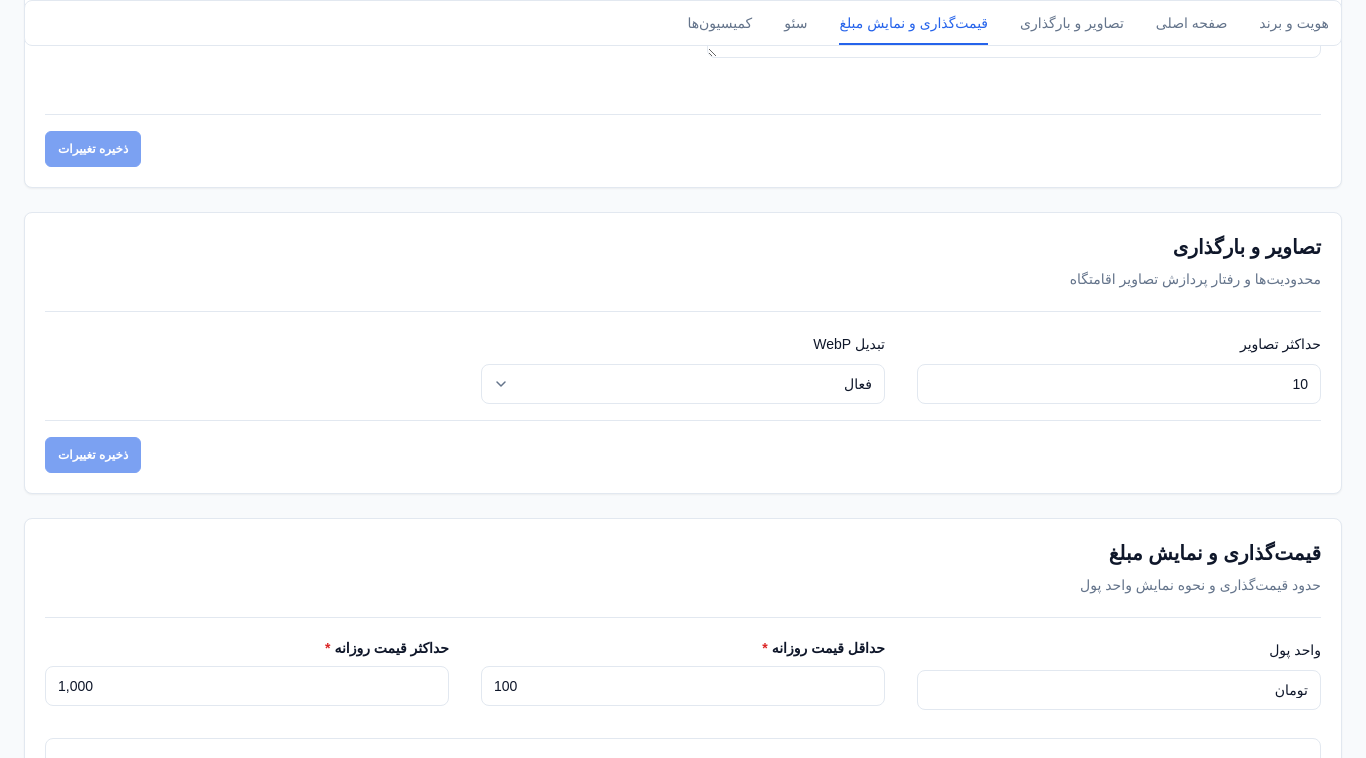
Admin Site Settings generic dirty state › tracks Boolean and fallback settings independently
(page scrolled)
Check: the element named "تبدیل WebP" is shown, box top-left (24, 212), bottom-right (1342, 494)
Check: the 2nd button "ذخیره تغییرات" is disabled, box top-left (45, 437), bottom-right (141, 473)
Step 1. Select "غیرفعال" in the dropdown labelled "تبدیل WebP" → (683, 384), box top-left (481, 364), bottom-right (885, 404)
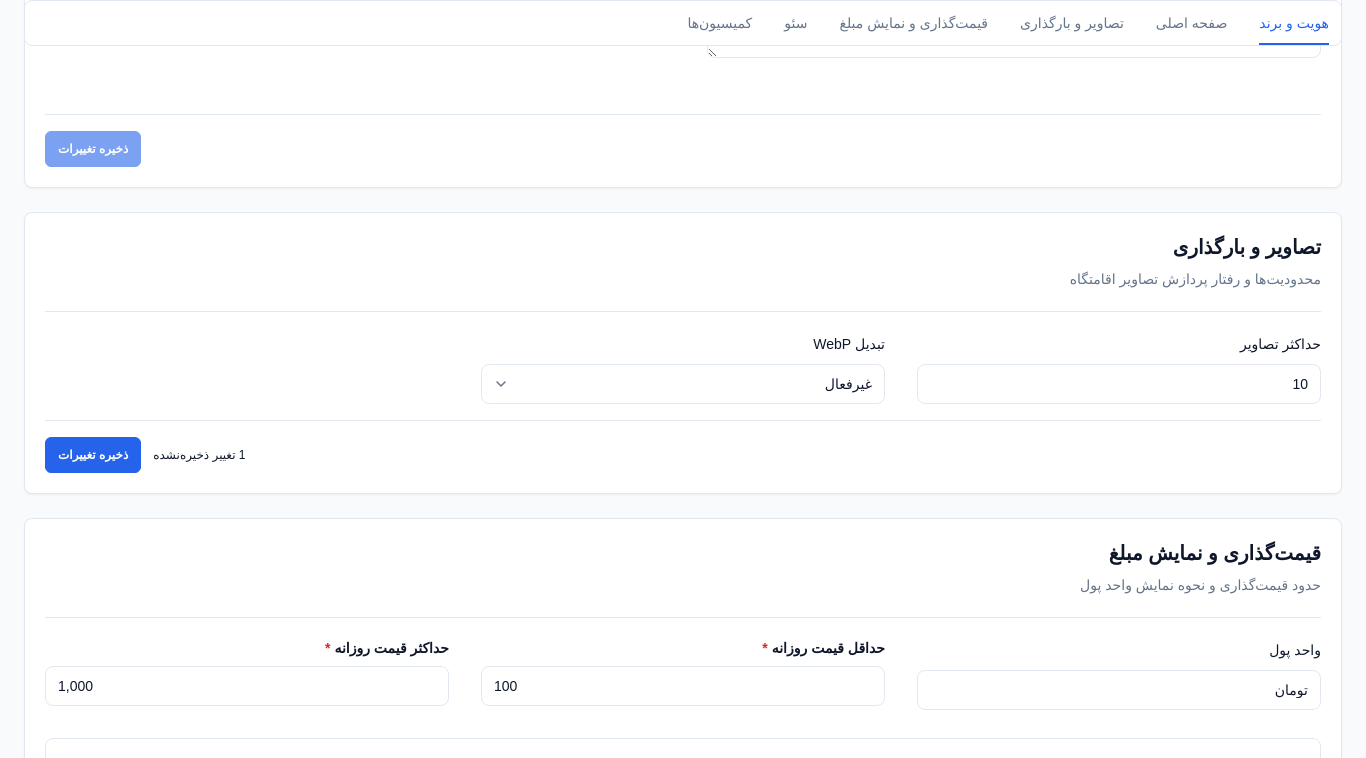
Check: the button "ذخیره تغییرات" next to "1 تغییر ذخیره‌نشده" is enabled
Step 2. Click the button "ذخیره تغییرات" next to "1 تغییر ذخیره‌نشده" → (93, 455), box top-left (45, 437), bottom-right (141, 473)
(page scrolled)
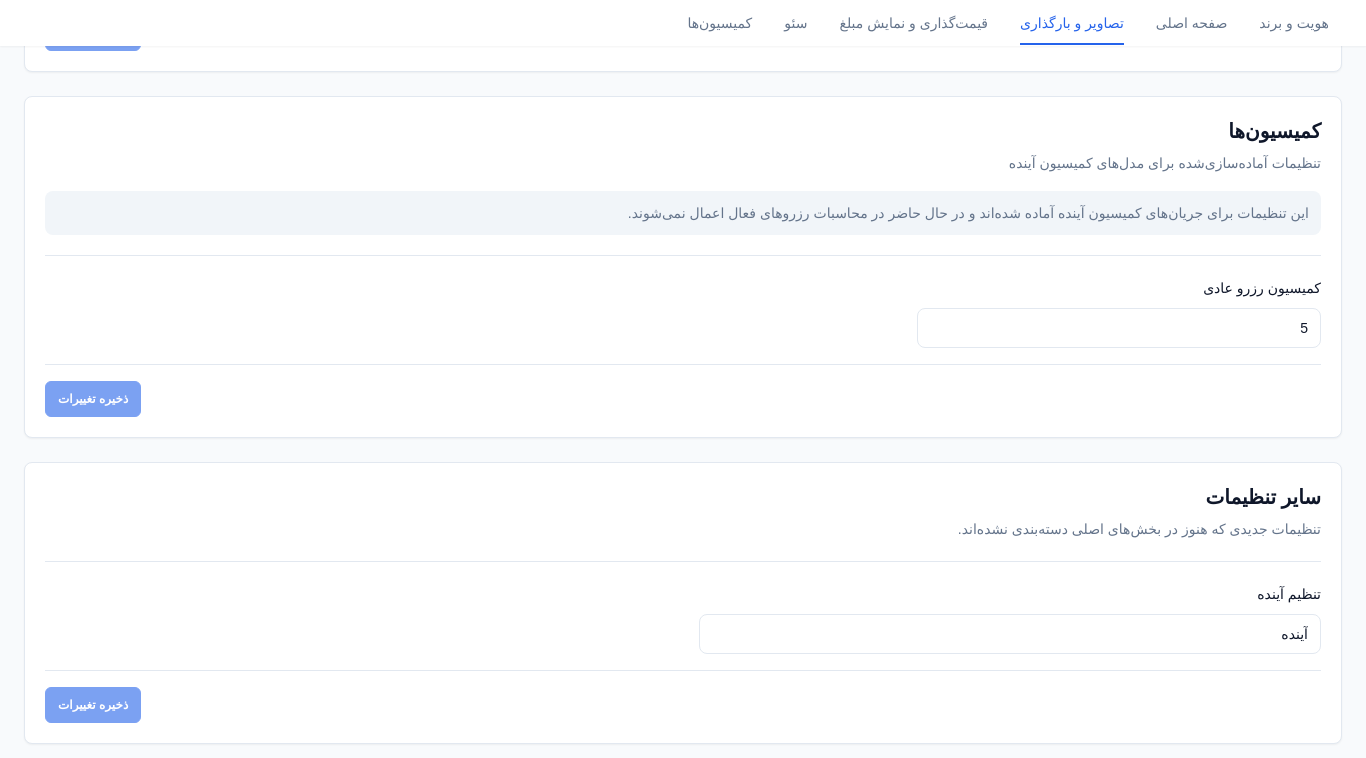
Step 3. Replace the text in the field labelled "تنظیم آینده" with "آینده جدید" → (1010, 634), box top-left (699, 614), bottom-right (1321, 654)
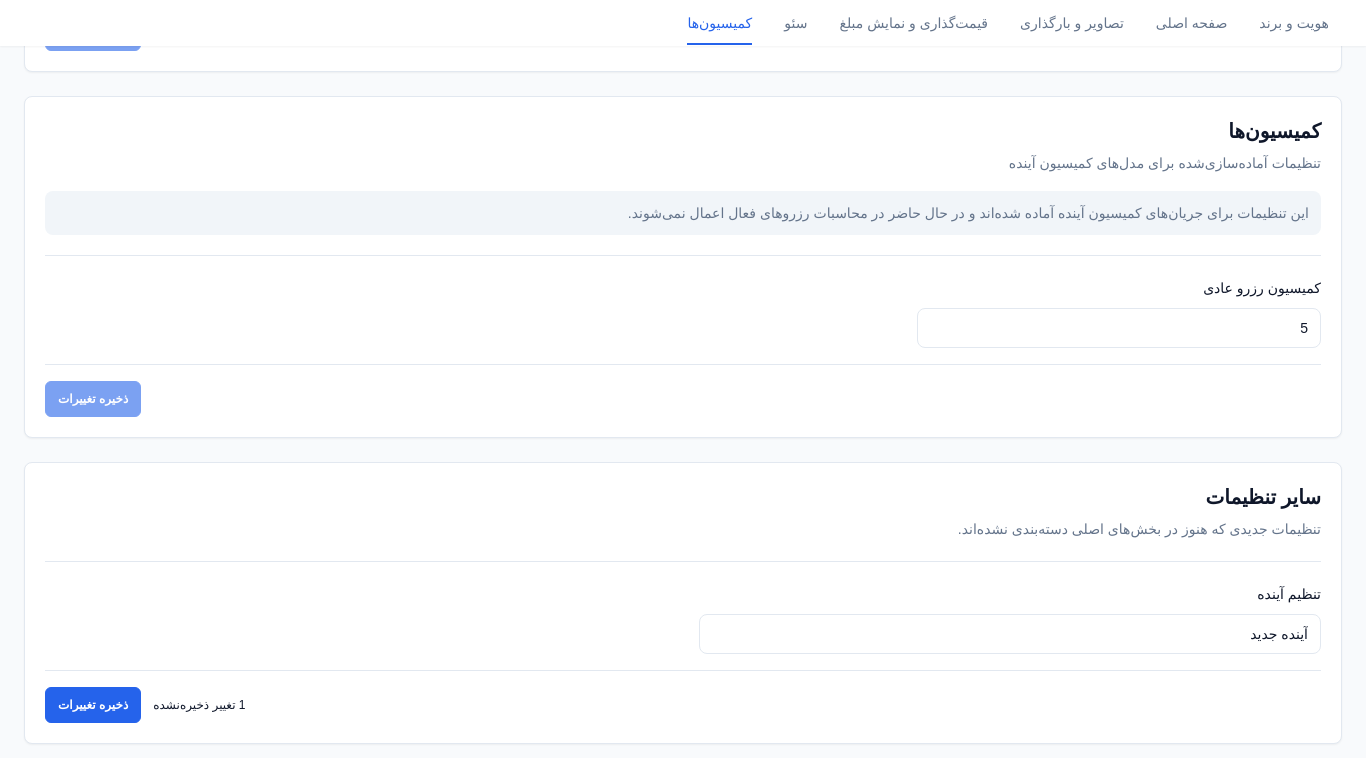
Check: the button "ذخیره تغییرات" next to "1 تغییر ذخیره‌نشده" is enabled, box top-left (45, 687), bottom-right (141, 723)
